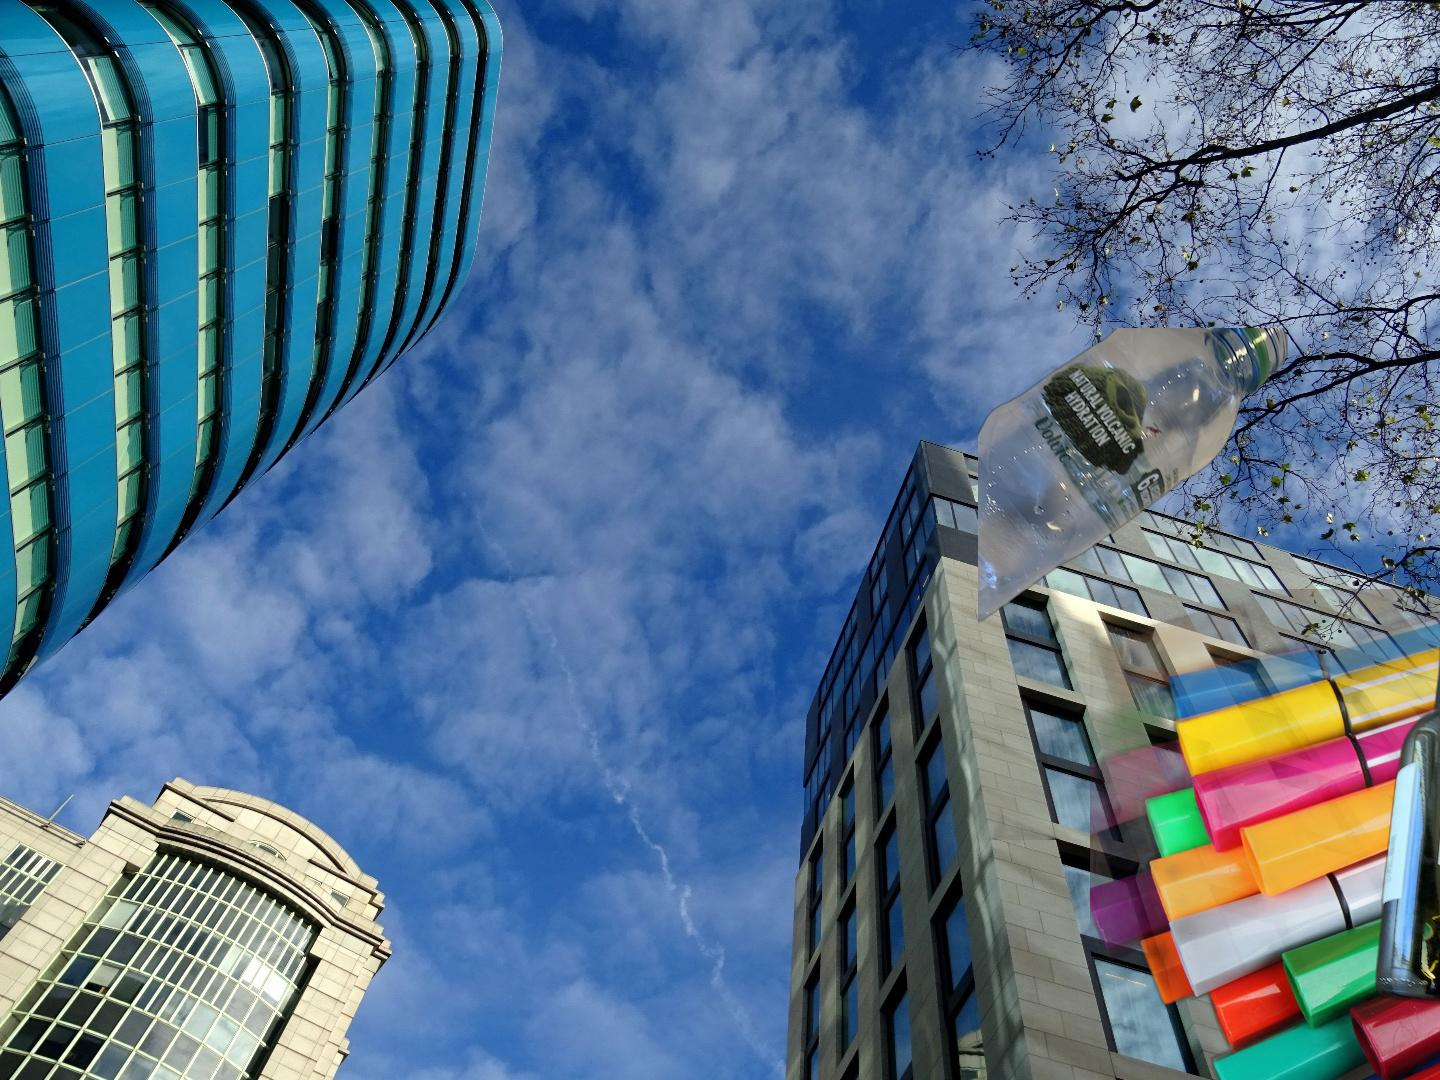glass: (1371, 621, 1440, 1016)
penholder: (1090, 589, 1440, 1080)
plastic-bottles: (979, 328, 1290, 839)
